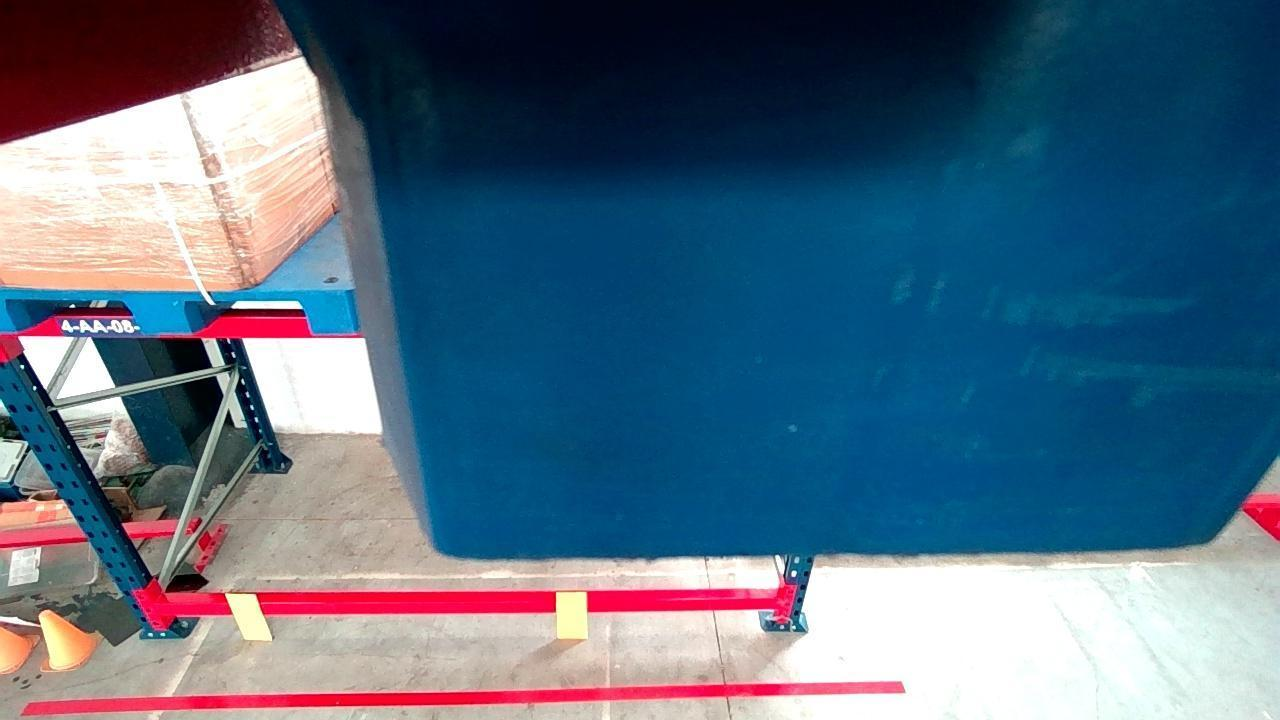h_rack: (159, 597, 775, 615), (23, 310, 365, 336)
orange_strip: (223, 591, 273, 641), (554, 590, 588, 640)
red_line: (22, 682, 904, 714)
small_pallet: (0, 284, 352, 335)
